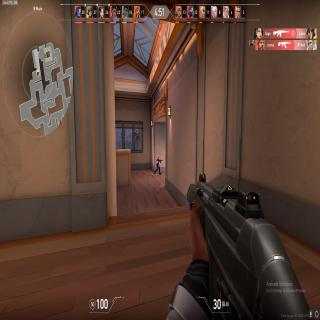ENEMY-BODY: (156, 156, 160, 175)
ENEMY-HEAD: (158, 156, 159, 160)
